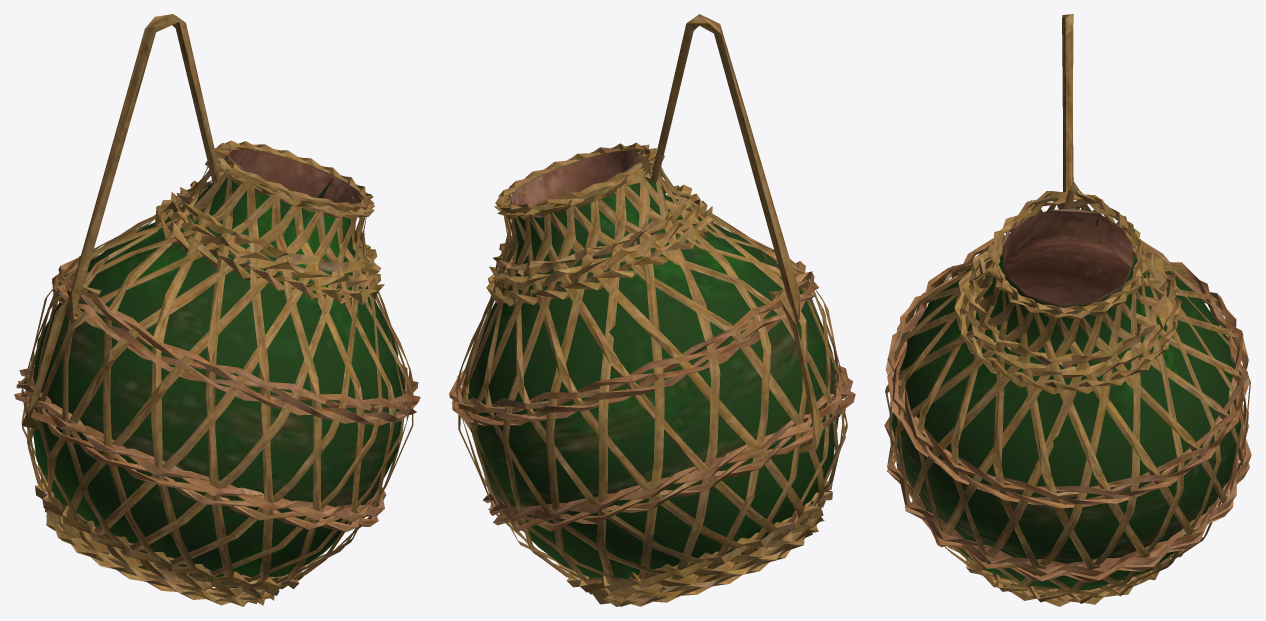
File: xi_oam_wicker_pot.gltf
3 renders of one model, left to right at view 1: azimuth 30°, elevation 25°; view 2: azimuth 150°, elevation 25°; view 3: azimuth 270°, elevation 25°, orthographic. The views are drawn at different scales.
Visible parts, largest first — view 1: xi_oam_wicker_pot; view 2: xi_oam_wicker_pot; view 3: xi_oam_wicker_pot.
Boxes of the visible parts, bbox=[...] form: xi_oam_wicker_pot: bbox=[14, 14, 420, 606]; xi_oam_wicker_pot: bbox=[449, 14, 855, 606]; xi_oam_wicker_pot: bbox=[884, 14, 1251, 606].
Size of the model in its own units: 0.549 by 0.8591 by 0.52.
Materials: 2 (2 with a texture image).
